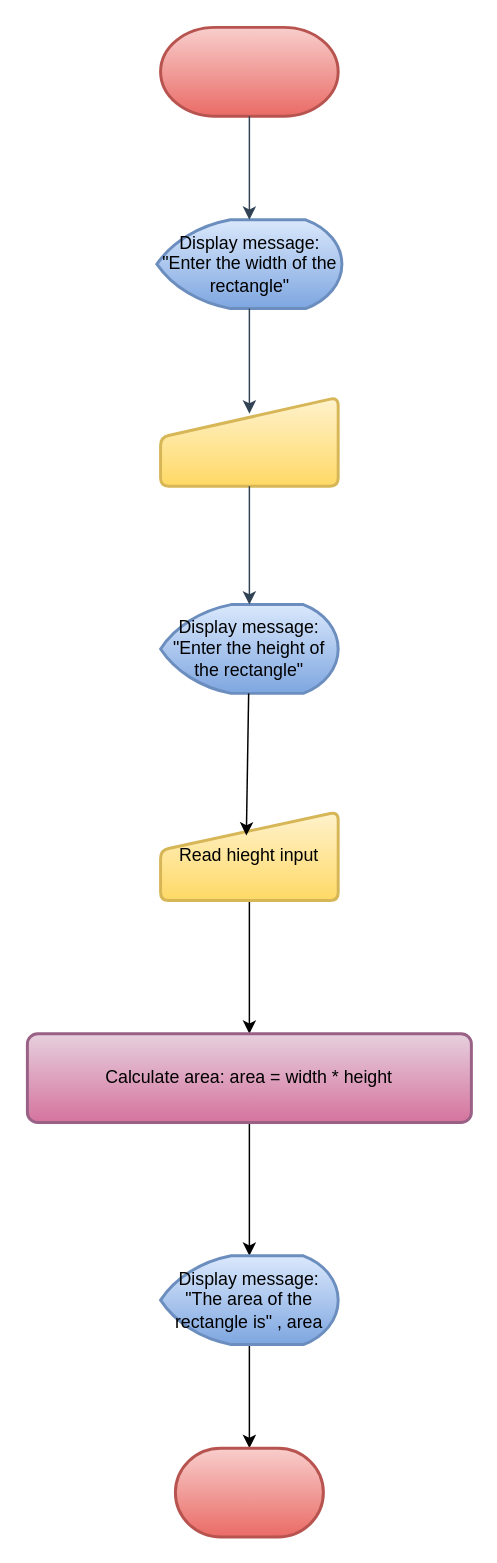
The diagram is 497 pixels wide and 1563 high, and some of its shapes have lost their labels. Each missing label, with the centre of its shape:
"End" goes at [248,1492].
"Read width input" goes at [248,441].
"start" goes at [248,71].
